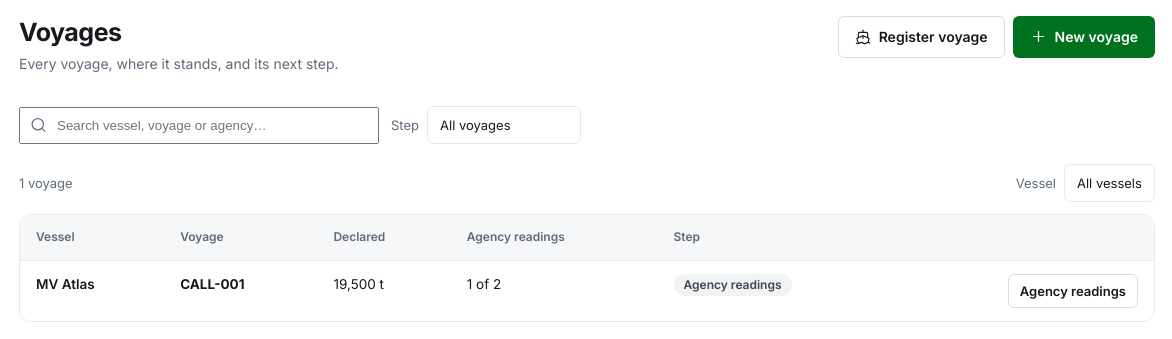
Test case: measurement workflow › lists each voyage with its step, next action and search
Check: the heading "Voyages" is shown, box 19,17 -> 122,47
Step 1. Type "unknown" into the field named "Search vessels, voyages or agencies" → (199, 125), box 19,107 -> 379,144
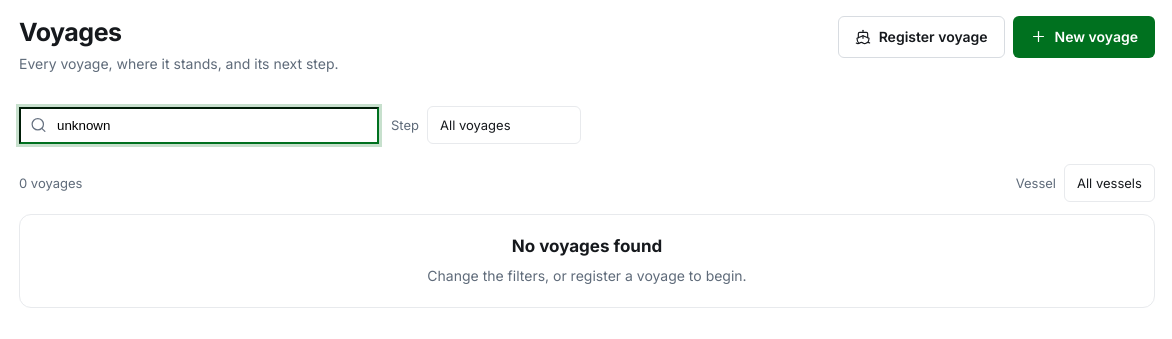
Check: the heading "No voyages found" is shown, box 512,236 -> 662,256
